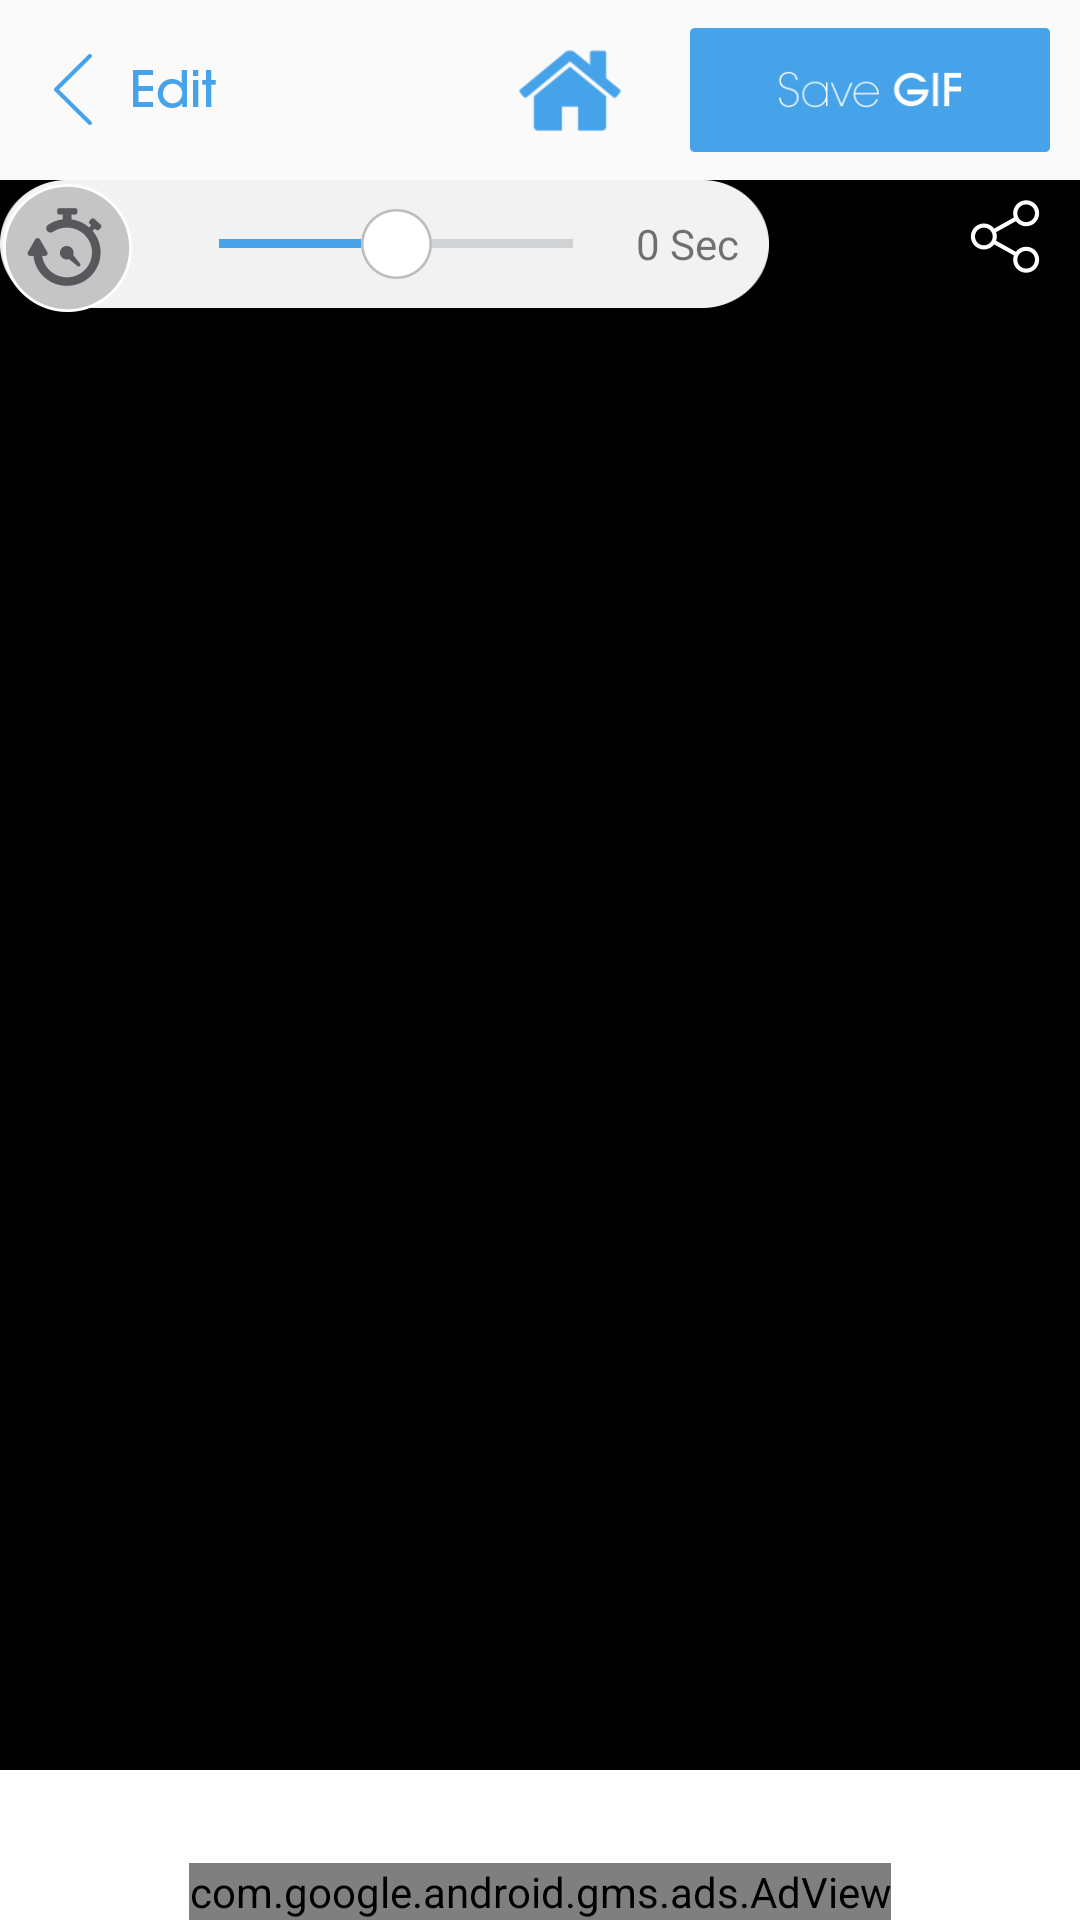

Screen size 1080 × 1920. Icon name, then its center in pixels as (x,y):
home: (570,90)
share: (1005,236)
time: (67,247)
